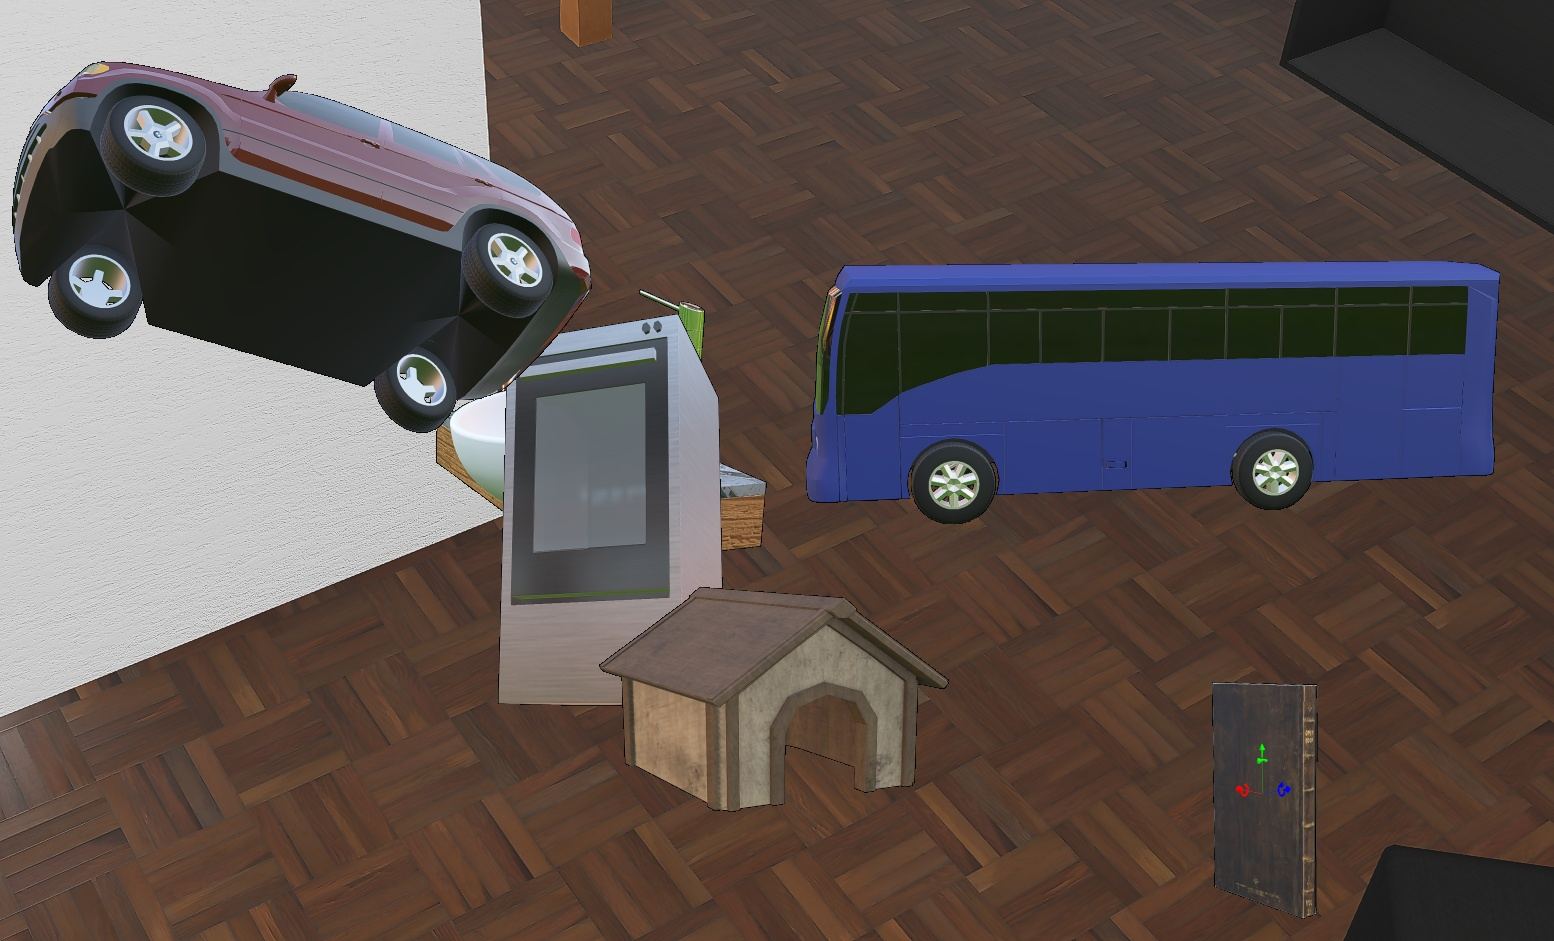bus: (805, 260, 1501, 525)
casa: (599, 587, 949, 812)
coche: (12, 61, 592, 433)
horno: (498, 314, 725, 706)
libro: (1212, 682, 1318, 919)
